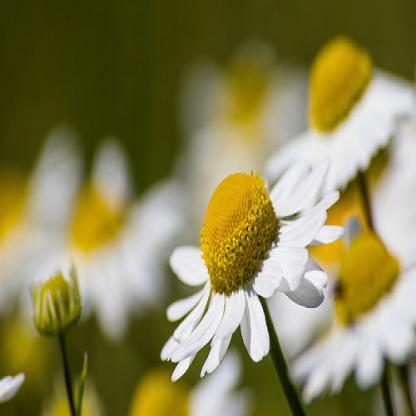ASTER: (14, 19, 411, 404)
